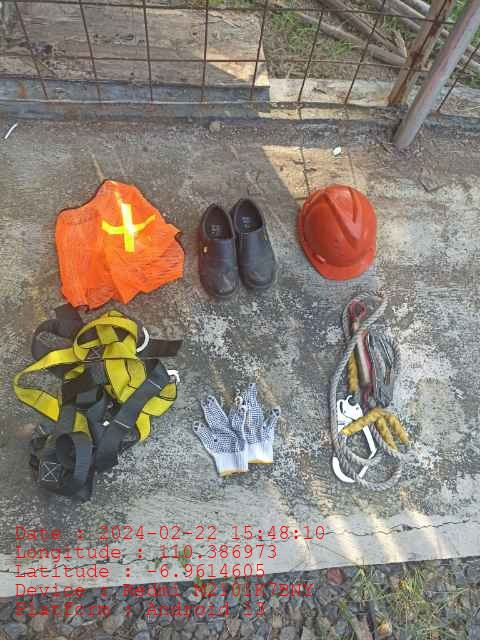HELM: (300, 185, 377, 279)
SARUNG TANGAN: (193, 388, 282, 472)
SEPATU: (200, 200, 277, 301)
TAMBANG_SLING: (326, 293, 413, 488)
